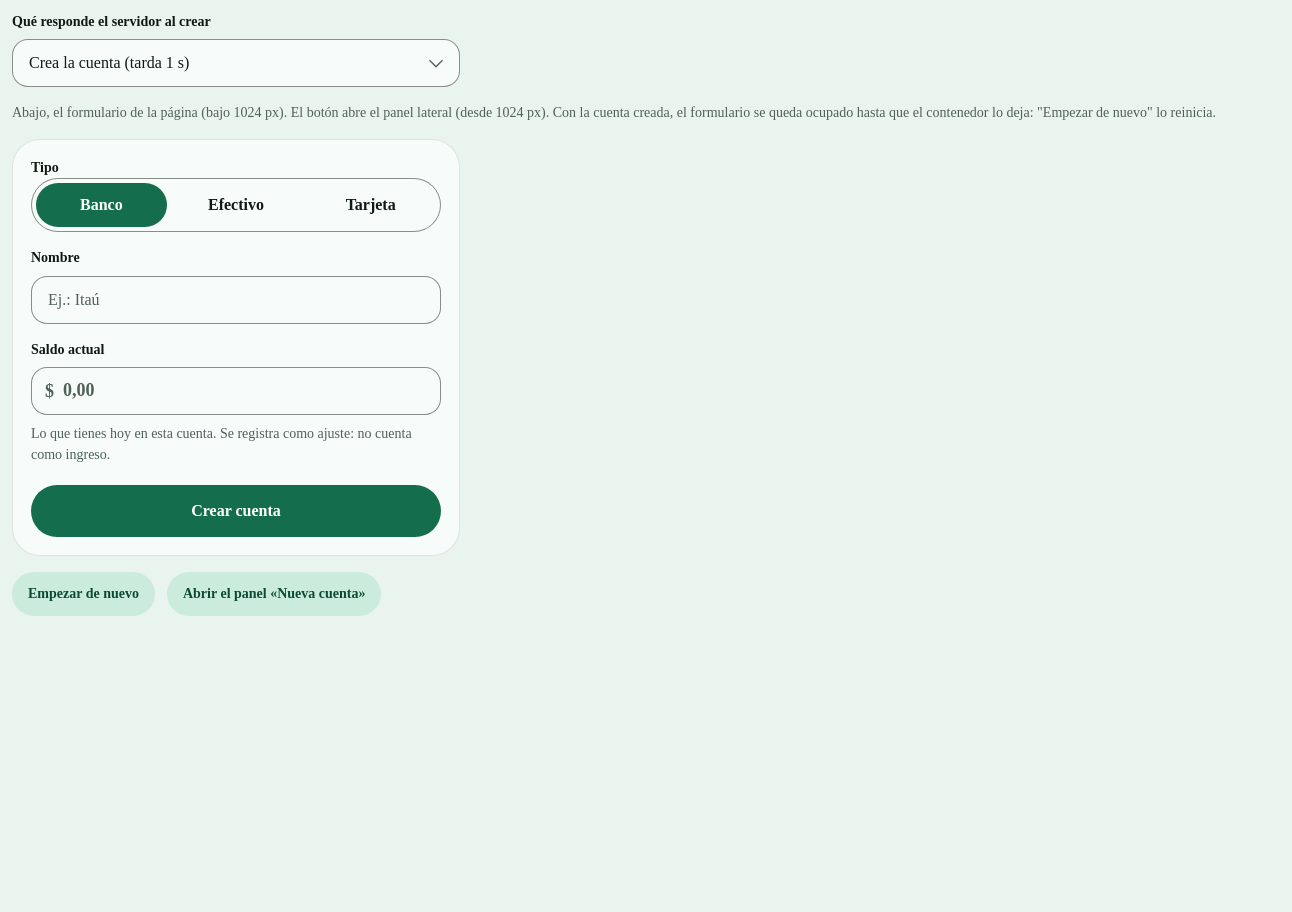
Scenario: AccountFormDemo › shows the Alert of the offline outcome
The width and height of the screenshot is (1292, 912).
Select "Sin conexión" in the dropdown labelled "Qué responde el servidor al crear": (236, 63) [12,39,460,87]
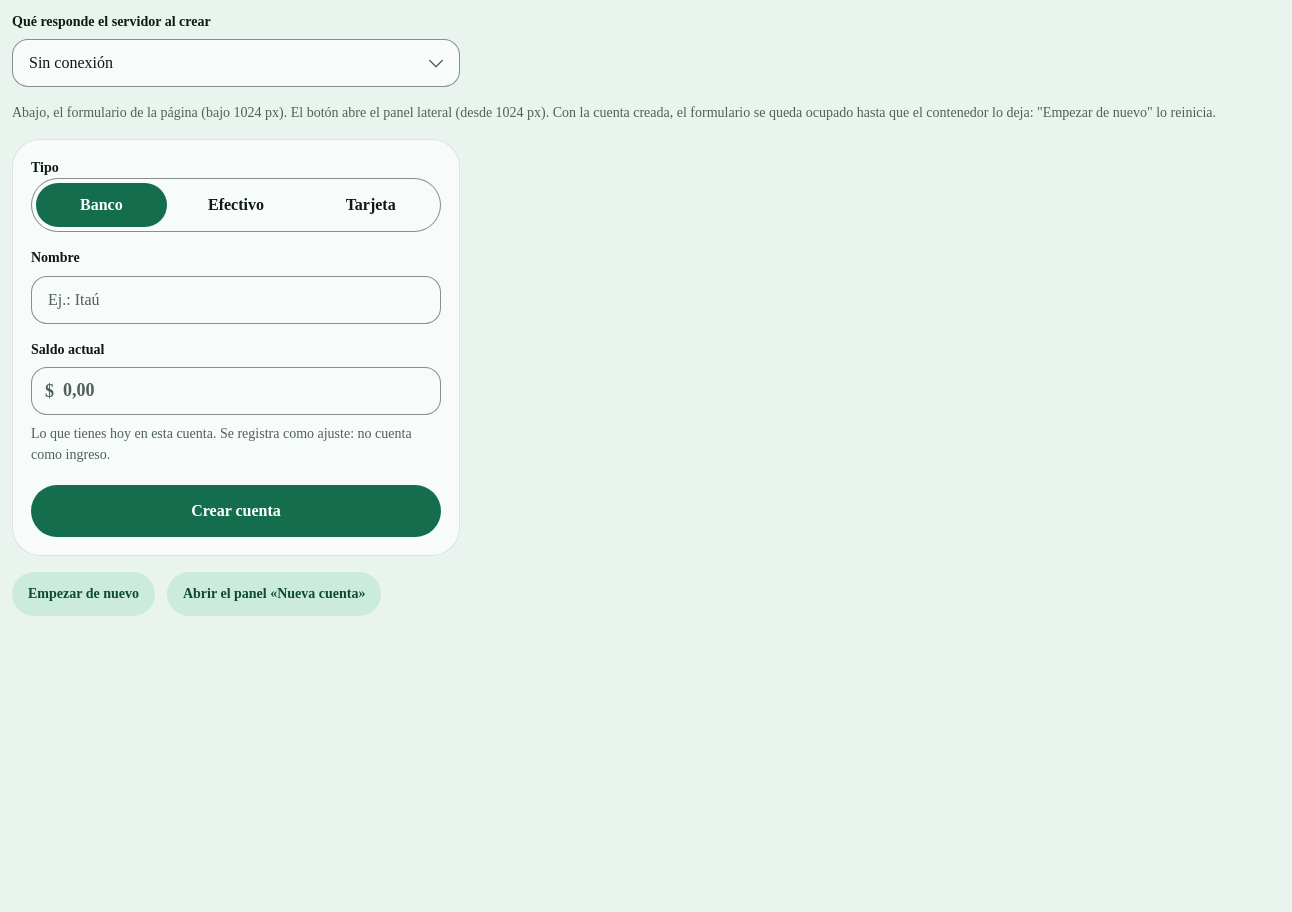
In the field labelled "Nombre": (236, 300) [31,276,441,324], type "Itaú"
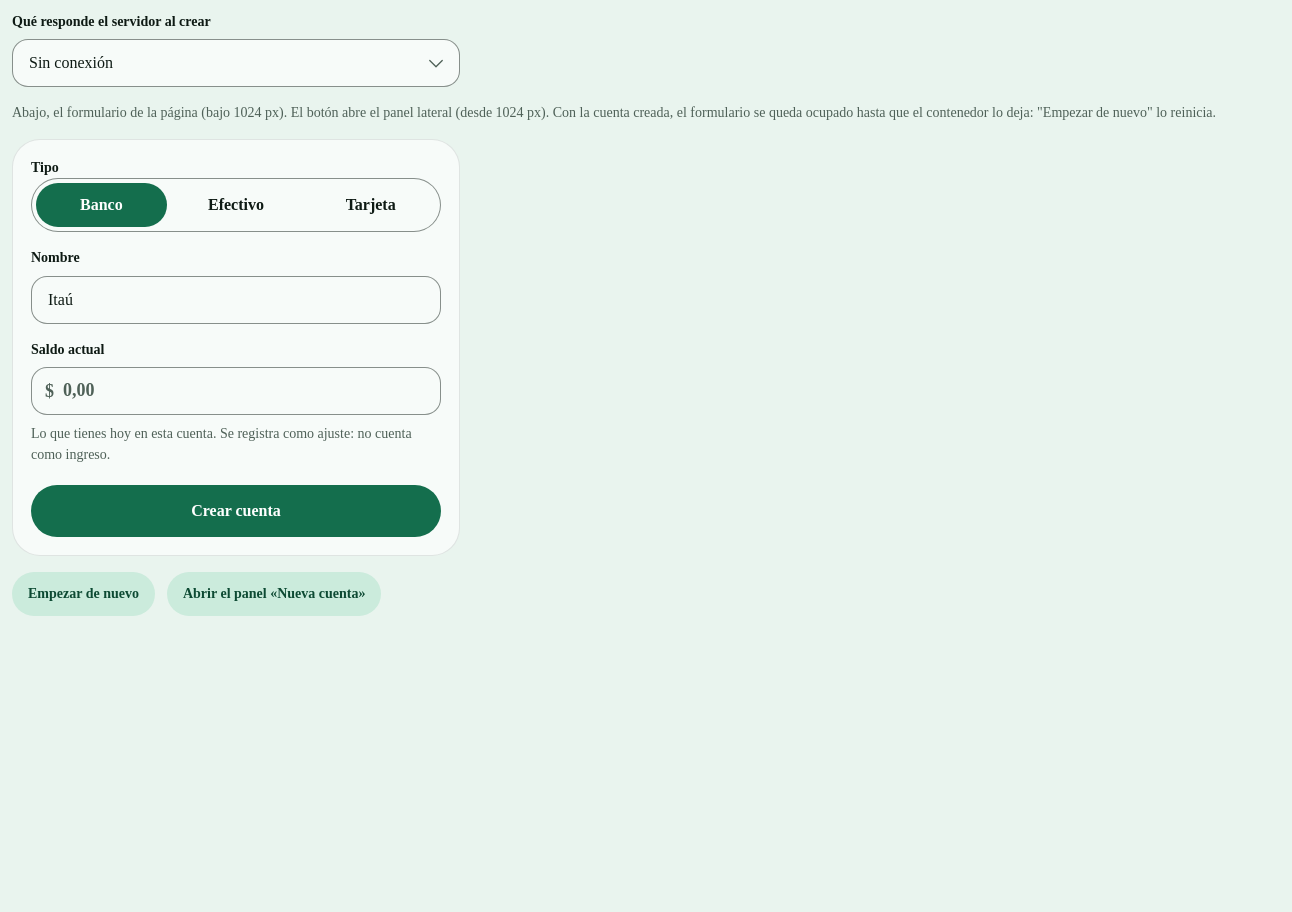
Click the button "Crear cuenta": (236, 511) [31,485,441,537]
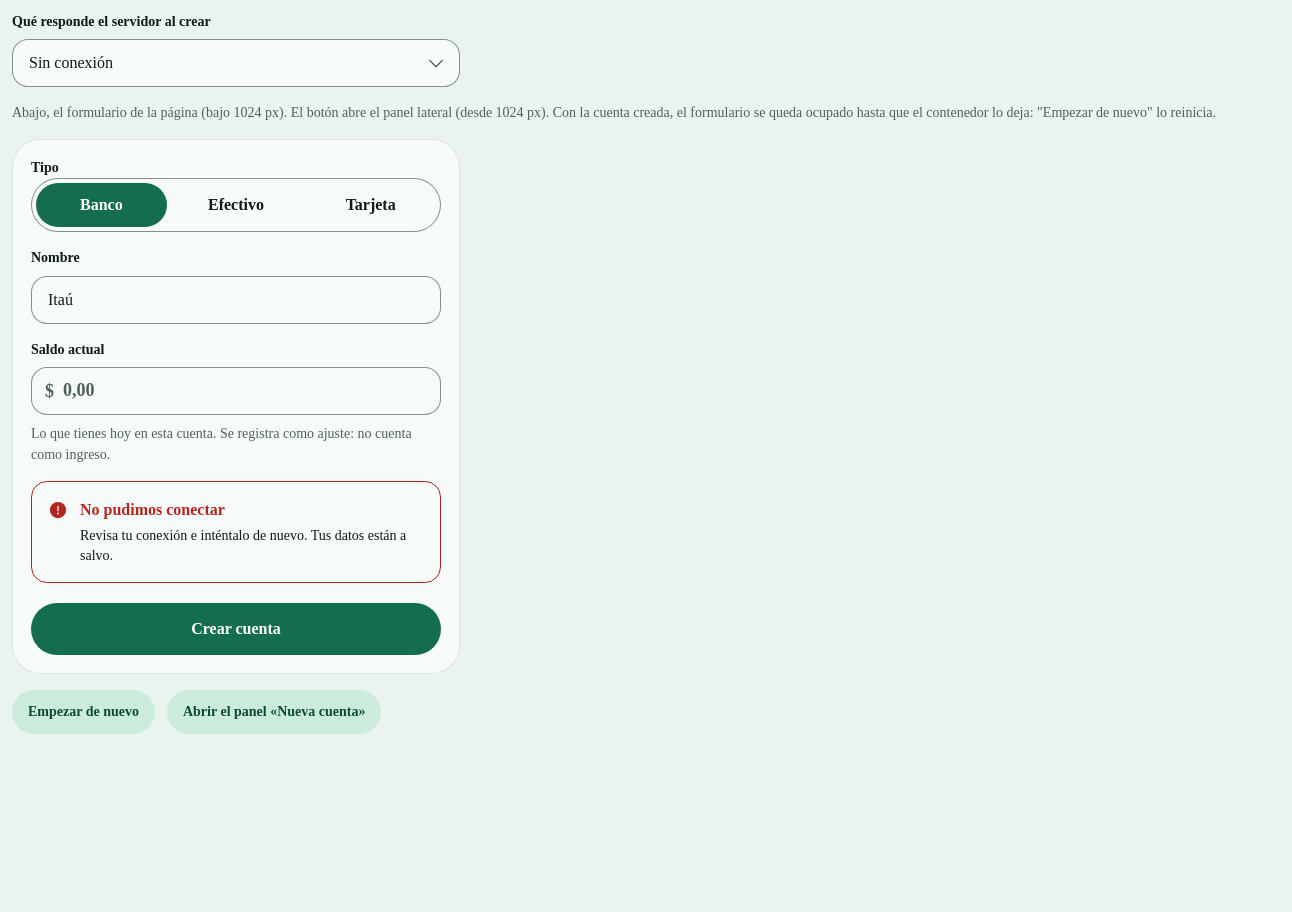
Result: the message shows "No pudimos conectar" at [80,501,225,518]
